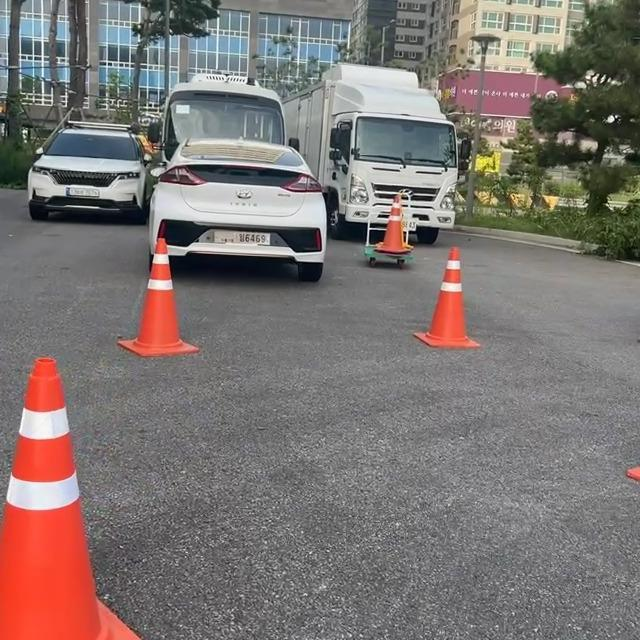fallen_object: (0, 336, 173, 640), (90, 169, 224, 357), (369, 256, 517, 369), (372, 200, 436, 268)
